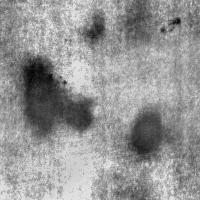patches: (99, 21, 200, 157), (0, 83, 93, 183), (20, 53, 94, 139), (126, 108, 166, 156)
